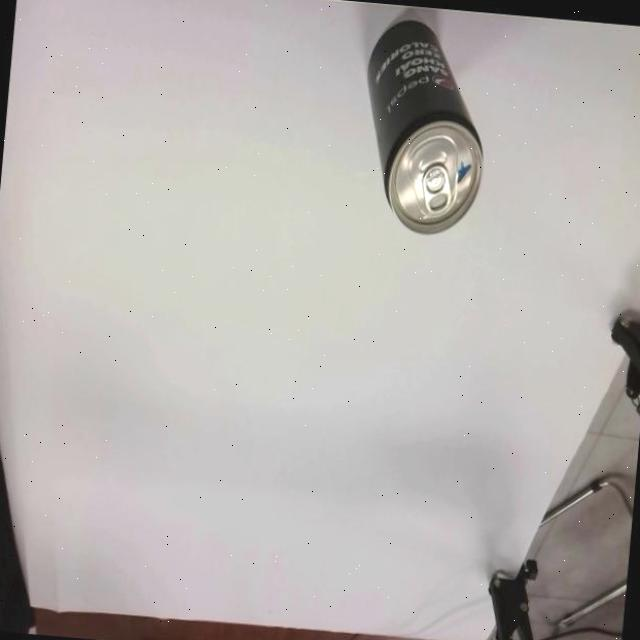debris: (352, 16, 497, 240)
